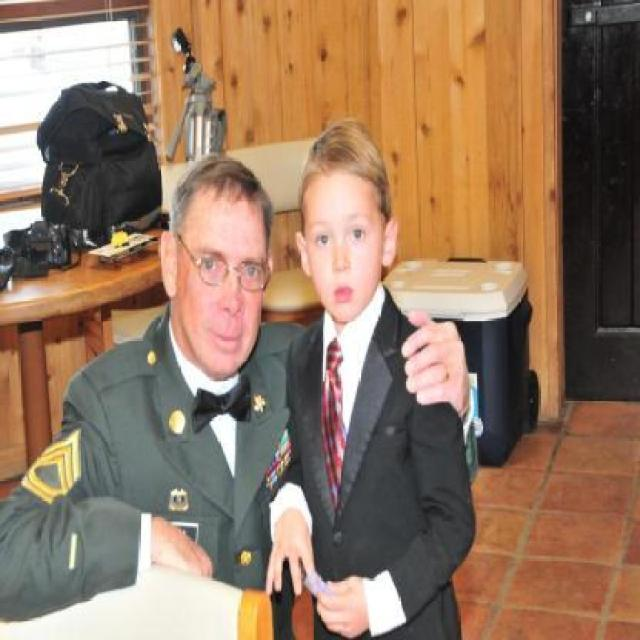backpack: (32, 74, 166, 245)
